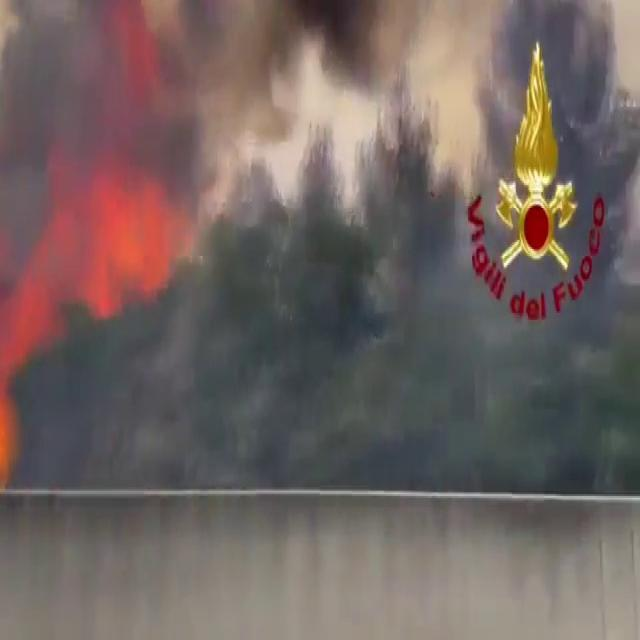Fire: (9, 162, 198, 356)
Smoke: (0, 0, 492, 311)
